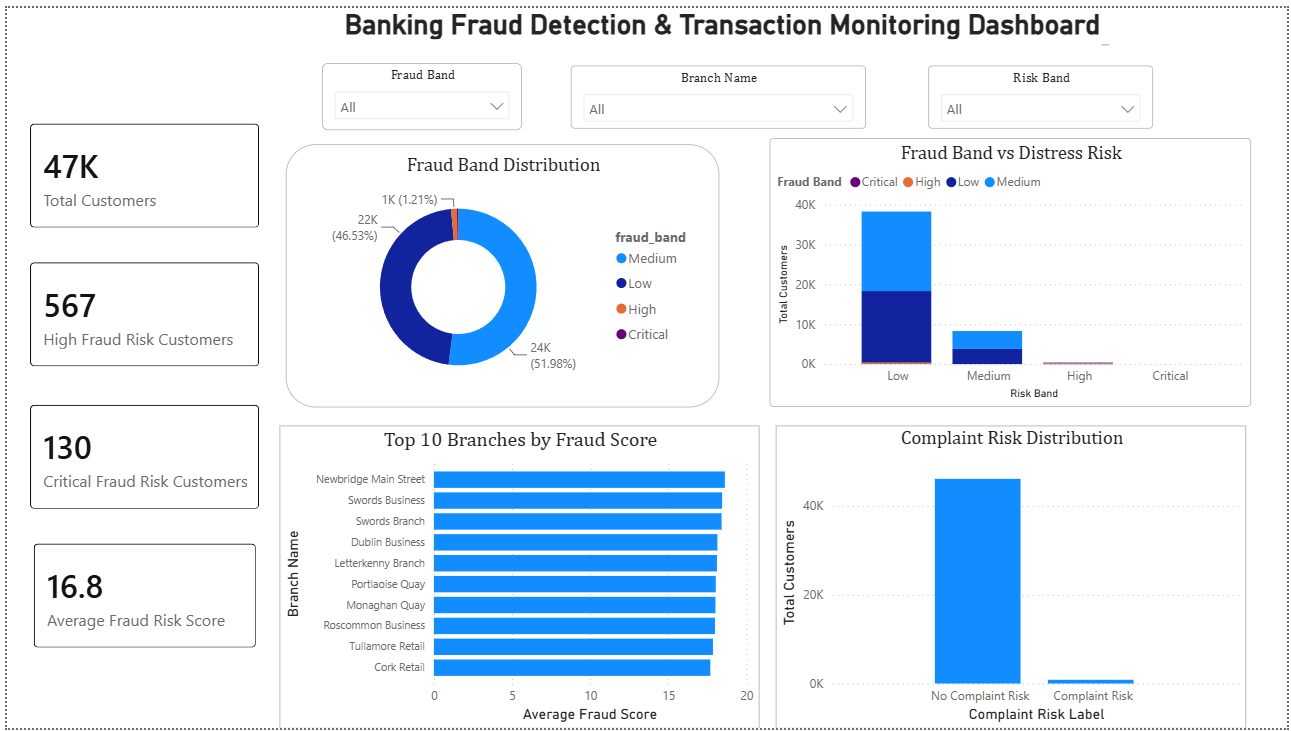

This screenshot's page, from the dashboard's own definition file:
{"tool":"powerbi","page":{"name":"Fraud Monitoring Overview","canvas":[1280,720],"ordinal":0},"visuals":[{"type":"cardVisual","fields":{"Data":["irish_retail_bank fraud_monitoring_profile.Total Customers"]},"box":[6.9,98.8,263.5,138.6],"z":0},{"type":"cardVisual","title":"High Fraud Risk Customers","fields":{"Data":["irish_retail_bank fraud_monitoring_profile.Critical Risk Customers"]},"box":[6.9,237.4,263.5,138.6],"z":1000},{"type":"cardVisual","fields":{"Data":["irish_retail_bank fraud_monitoring_profile.Critical Risk Customers"]},"box":[6.9,380.1,263.5,138.6],"z":2000},{"type":"cardVisual","fields":{"Data":["irish_retail_bank fraud_monitoring_profile.Average Fraud Score"]},"box":[9.6,518.7,256.6,138.6],"z":3000},{"type":"donutChart","title":"Fraud Band Distribution","fields":{"Category":["irish_retail_bank fraud_monitoring_profile.fraud_band"],"Y":["Count(irish_retail_bank fraud_monitoring_profile.customer_id)"]},"box":[278.6,135.8,433.6,263.5],"z":4000},{"type":"slicer","title":"Fraud Band","fields":{"Values":["irish_retail_bank fraud_monitoring_profile.fraud_band"]},"box":[315.6,54.9,200.3,67.2],"z":5000},{"type":"clusteredBarChart","title":"Top 10 Branches by Fraud Score","fields":{"Category":["irish_retail_bank fraud_monitoring_profile.branch_name"],"Y":["Avg(irish_retail_bank fraud_monitoring_profile.fraud_score)"]},"box":[273.1,417.2,480.3,303.3],"z":6000},{"type":"columnChart","title":"Fraud Band vs Distress Risk","fields":{"Category":["irish_retail_bank fraud_monitoring_profile.risk_band"],"Series":["irish_retail_bank fraud_monitoring_profile.fraud_band"],"Y":["Count(irish_retail_bank fraud_monitoring_profile.customer_id)"]},"box":[763,130.4,481.6,269],"z":7000},{"type":"clusteredColumnChart","title":"Complaint Risk Distribution","fields":{"Y":["Count(irish_retail_bank fraud_monitoring_profile.customer_id)"],"Category":["irish_retail_bank fraud_monitoring_profile.Complaint Risk Label"]},"box":[768.4,417.2,470.7,303.3],"z":8000},{"type":"slicer","title":"Risk Band","fields":{"Values":["irish_retail_bank fraud_monitoring_profile.risk_band"]},"box":[920.8,57.6,225,63.1],"z":9000},{"type":"slicer","title":"Branch Name","fields":{"Values":["irish_retail_bank fraud_monitoring_profile.branch_name"]},"box":[564,57.6,295,63.1],"z":10000},{"type":"textbox","title":"Banking Fraud Detection & Transaction Monitoring Dashboard","box":[323.8,0,783.5,42.5],"z":11000}]}

Visuals, with their boxes in screenshot pixels (x1, y1, x2, y2), scaled from the page's 1280x720 canvas onto the 1291x731 screenshot:
cardVisual - irish_retail_bank fraud_monitoring_profile.Total Customers: (x1=7, y1=100, x2=273, y2=241)
"High Fraud Risk Customers" cardVisual: (x1=7, y1=241, x2=273, y2=382)
cardVisual - irish_retail_bank fraud_monitoring_profile.Critical Risk Customers: (x1=7, y1=386, x2=273, y2=527)
cardVisual - irish_retail_bank fraud_monitoring_profile.Average Fraud Score: (x1=10, y1=527, x2=268, y2=667)
"Fraud Band Distribution" donutChart: (x1=281, y1=138, x2=718, y2=405)
"Fraud Band" slicer: (x1=318, y1=56, x2=520, y2=124)
"Top 10 Branches by Fraud Score" clusteredBarChart: (x1=275, y1=424, x2=760, y2=730)
"Fraud Band vs Distress Risk" columnChart: (x1=770, y1=132, x2=1255, y2=406)
"Complaint Risk Distribution" clusteredColumnChart: (x1=775, y1=424, x2=1250, y2=730)
"Risk Band" slicer: (x1=929, y1=58, x2=1156, y2=123)
"Branch Name" slicer: (x1=569, y1=58, x2=866, y2=123)
"Banking Fraud Detection & Transaction Monitoring Dashboard" textbox: (x1=327, y1=0, x2=1117, y2=43)
